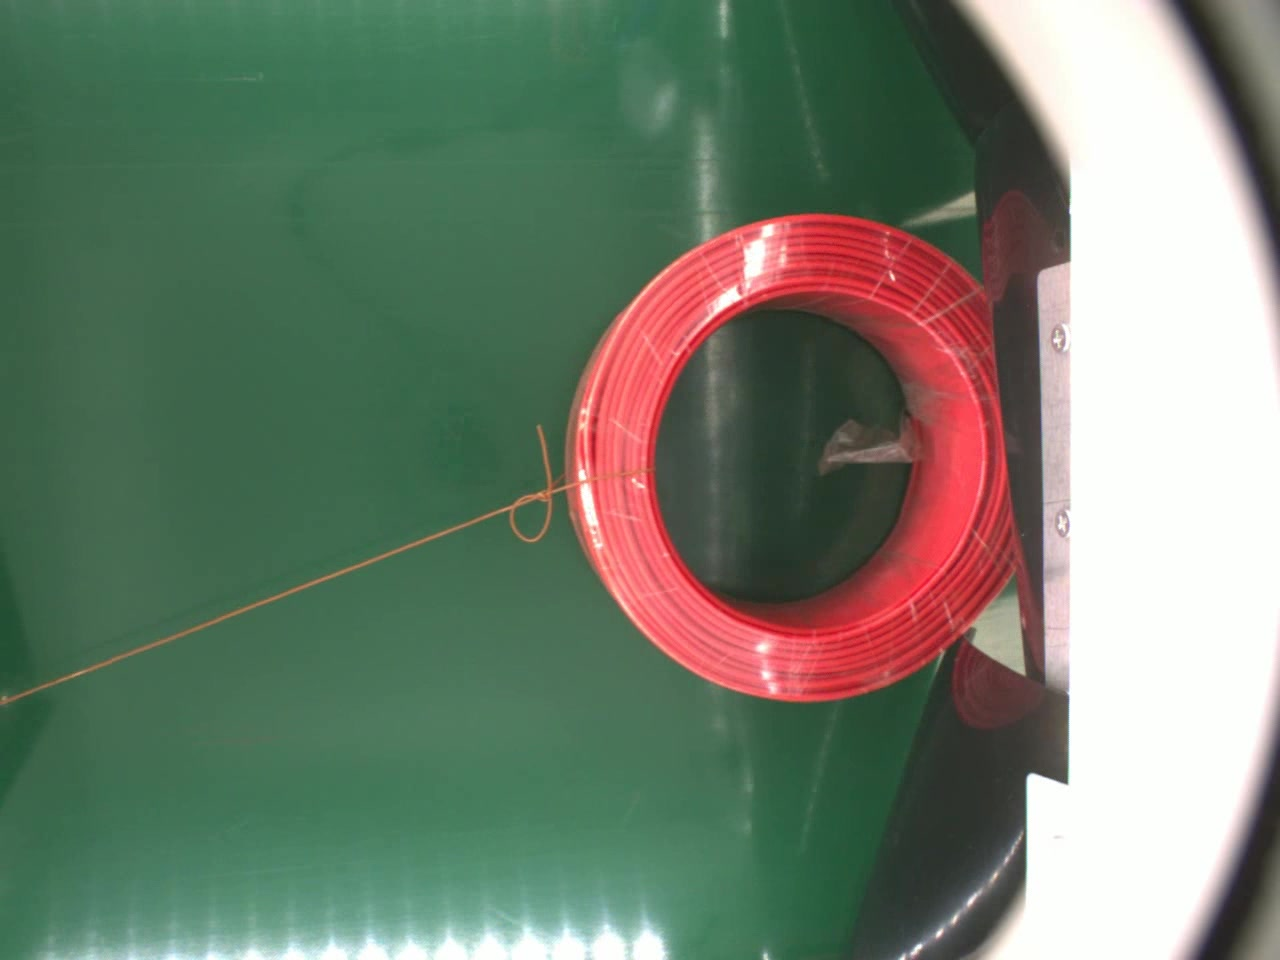red: (558, 210, 1020, 701)
